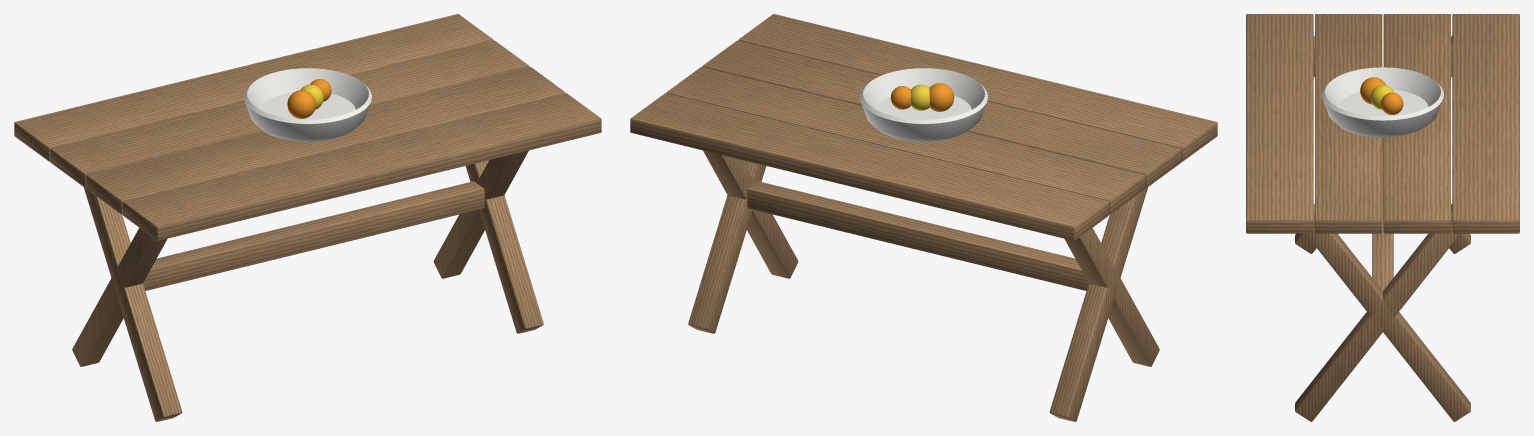
The model's file is mesa-roble-rustica-v2.gltf.
3 renders of one model, left to right at view 1: azimuth 30°, elevation 25°; view 2: azimuth 150°, elevation 25°; view 3: azimuth 270°, elevation 25°, orthographic. The views are drawn at different scales.
Parts seen in each view (by area): view 1: mesa-roble-rustica__w_roble_x, mesa-roble-rustica__w_roble, mesa-roble-rustica__k_ceramica, mesa-roble-rustica__k_naranja; view 2: mesa-roble-rustica__w_roble_x, mesa-roble-rustica__w_roble, mesa-roble-rustica__k_ceramica, mesa-roble-rustica__k_naranja; view 3: mesa-roble-rustica__w_roble_x, mesa-roble-rustica__w_roble, mesa-roble-rustica__k_ceramica, mesa-roble-rustica__k_naranja, mesa-roble-rustica__k_limon.
Part boxes in pixels (x1,y1,x2,y2): mesa-roble-rustica__w_roble_x: (14,14,601,290); mesa-roble-rustica__w_roble: (72,150,543,421); mesa-roble-rustica__k_ceramica: (244,68,371,141); mesa-roble-rustica__k_naranja: (287,79,331,118); mesa-roble-rustica__w_roble_x: (630,14,1217,290); mesa-roble-rustica__w_roble: (688,150,1159,421); mesa-roble-rustica__k_ceramica: (860,68,987,141); mesa-roble-rustica__k_naranja: (890,83,954,111); mesa-roble-rustica__w_roble_x: (1246,14,1519,290); mesa-roble-rustica__w_roble: (1295,35,1470,421); mesa-roble-rustica__k_ceramica: (1322,67,1443,137); mesa-roble-rustica__k_naranja: (1360,77,1403,114); mesa-roble-rustica__k_limon: (1370,85,1394,109).
Size of the model in its own units: 1.6 by 0.9041 by 0.896.
5 materials, 2 textured.
